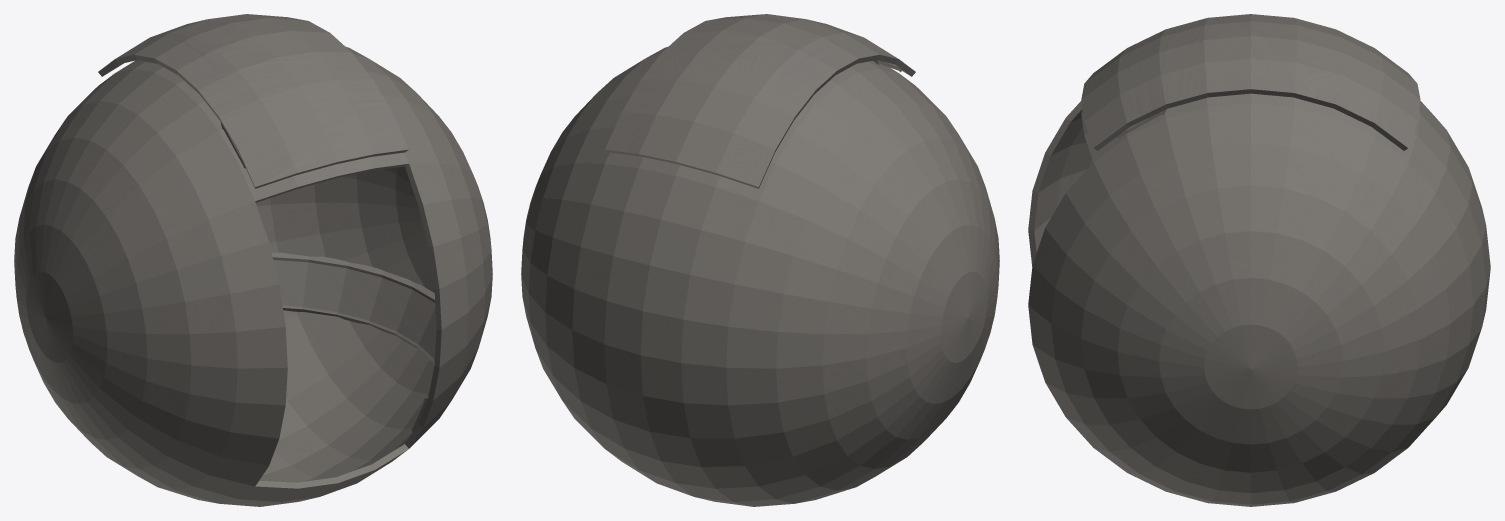
Rendered from Cockpit_Body.fbx.
3 views of the same model, side by side, from view 1: azimuth 30°, elevation 25°; view 2: azimuth 150°, elevation 25°; view 3: azimuth 270°, elevation 25° (orthographic).
Visible parts, largest first — view 1: Cockpit_main, Cockpit_hatch, Sphere; view 2: Cockpit_main, Cockpit_hatch; view 3: Cockpit_main, Cockpit_hatch.
Boxes of the visible parts, x1,y1,x2,y2 form: Cockpit_main: (14, 47, 492, 506); Cockpit_hatch: (98, 14, 408, 188); Sphere: (272, 252, 436, 432); Cockpit_main: (521, 47, 999, 506); Cockpit_hatch: (605, 14, 915, 188); Cockpit_main: (1028, 93, 1490, 506); Cockpit_hatch: (1081, 14, 1420, 150).
Bounding box in the file's own units: 308 × 318 × 297.
